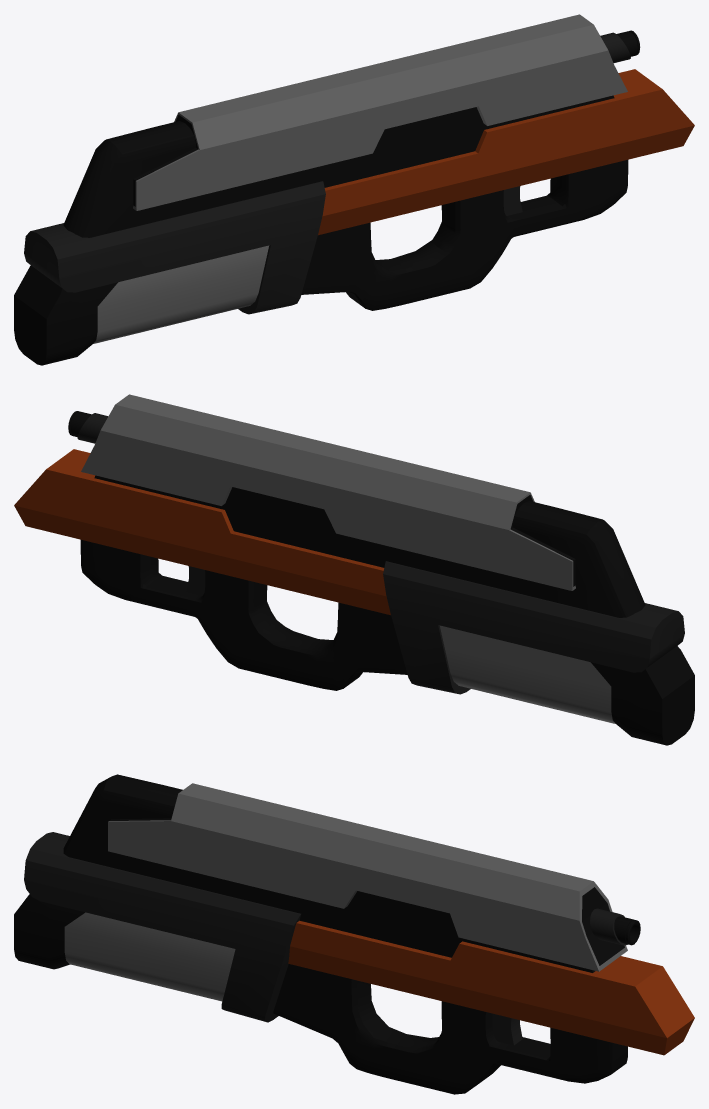
3 views of the same model, one above another, from view 1: azimuth 30°, elevation 25°; view 2: azimuth 150°, elevation 25°; view 3: azimuth 330°, elevation 25° (orthographic).
Visible parts, largest first — view 1: AR_5_Cube.188; view 2: AR_5_Cube.188; view 3: AR_5_Cube.188.
Part boxes in pixels (x1,y1,x2,y2): AR_5_Cube.188: [14, 14, 694, 365]; AR_5_Cube.188: [14, 394, 694, 745]; AR_5_Cube.188: [14, 774, 694, 1094].
Size of the model in its own units: 1.57 by 0.5377 by 0.1478.
